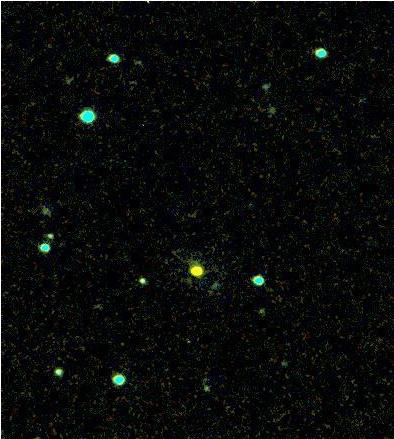star: (179, 250, 209, 280)
